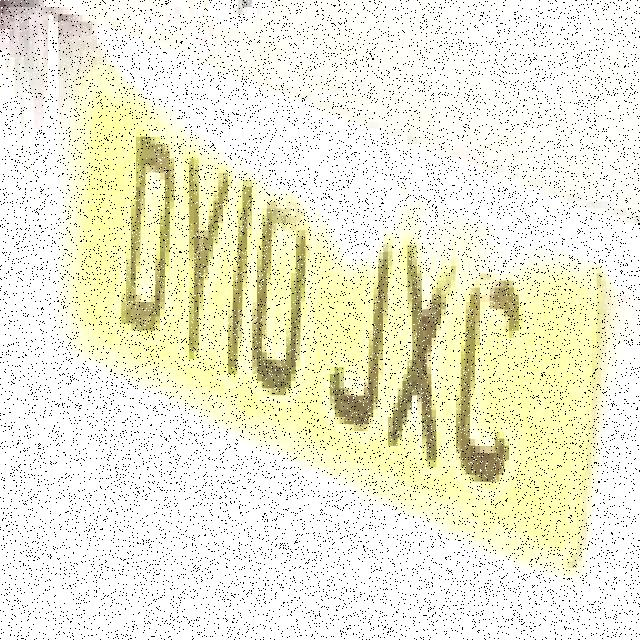licenseplate: (32, 11, 612, 601)
